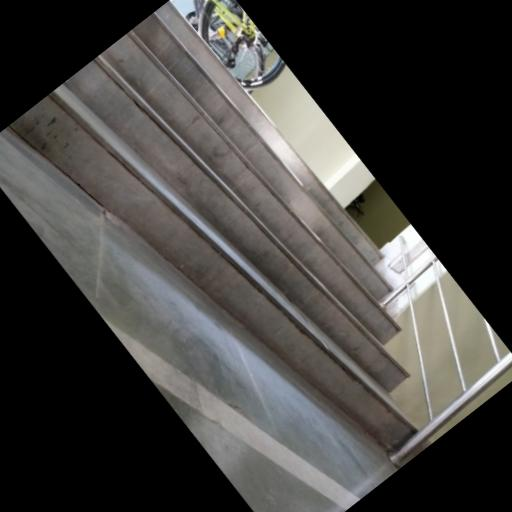stairs: (9, 2, 413, 448)
